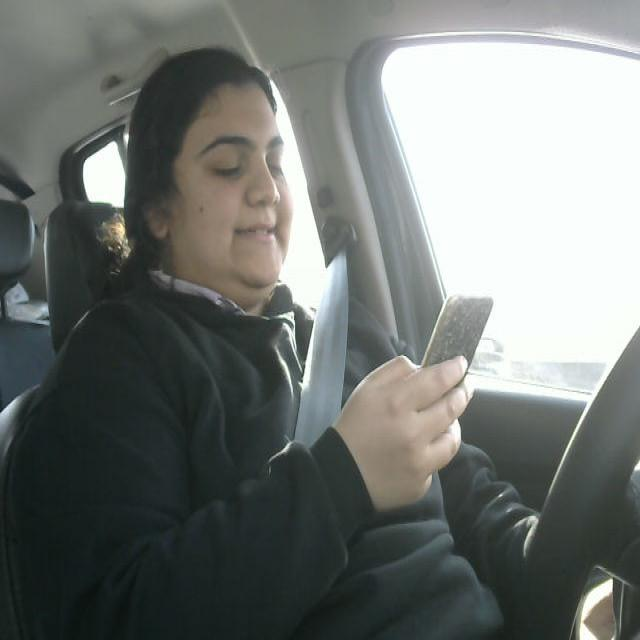mobile use: (419, 286, 501, 388)
